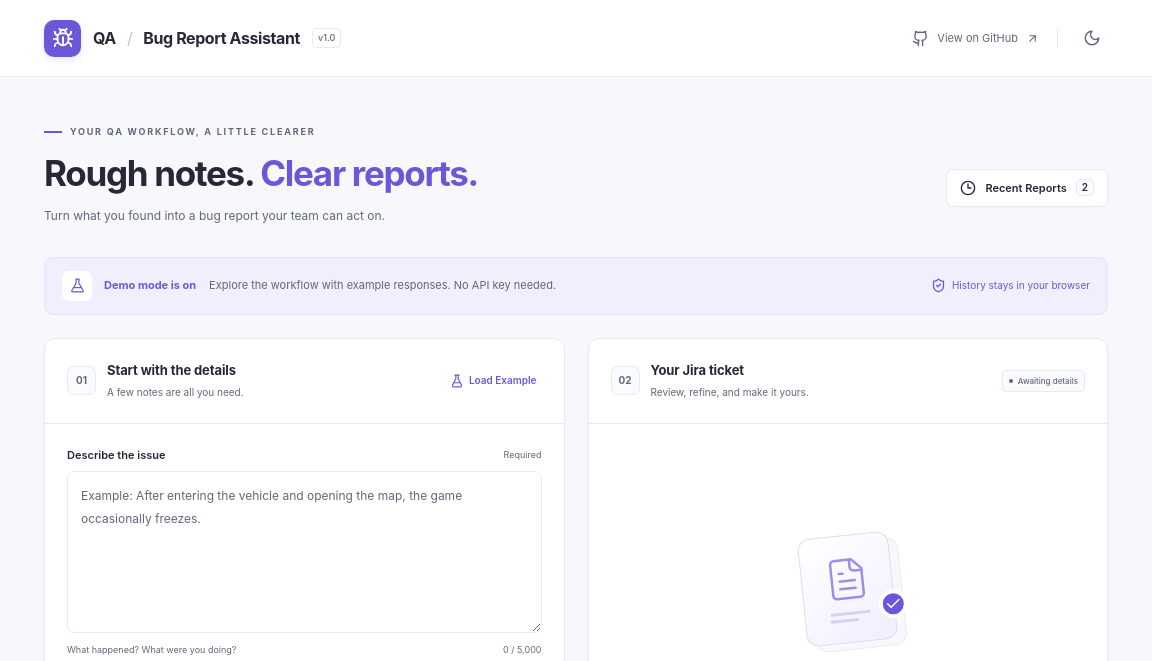
report workflow › restores, deletes and clears history with confirmation
Click the button "Recent Reports 2": [1027, 188] box [946, 169, 1108, 207]
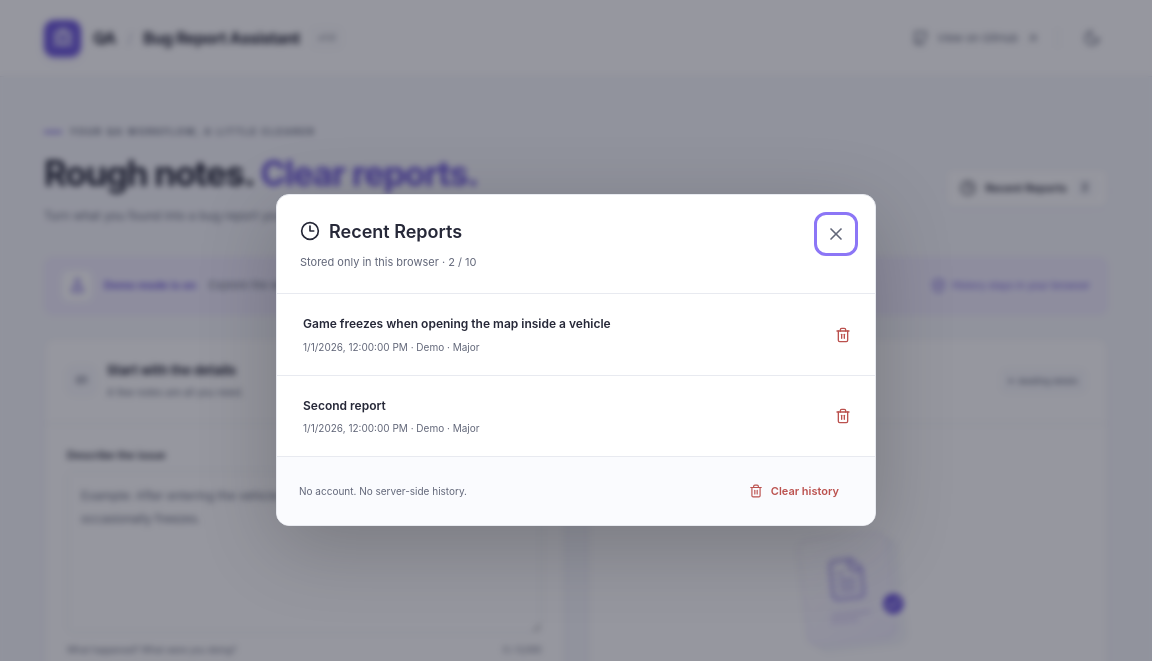
Click the button "Second report 1/1/2026, 12:00:00 PM · Demo · Major": [344, 405] box [293, 386, 817, 446]
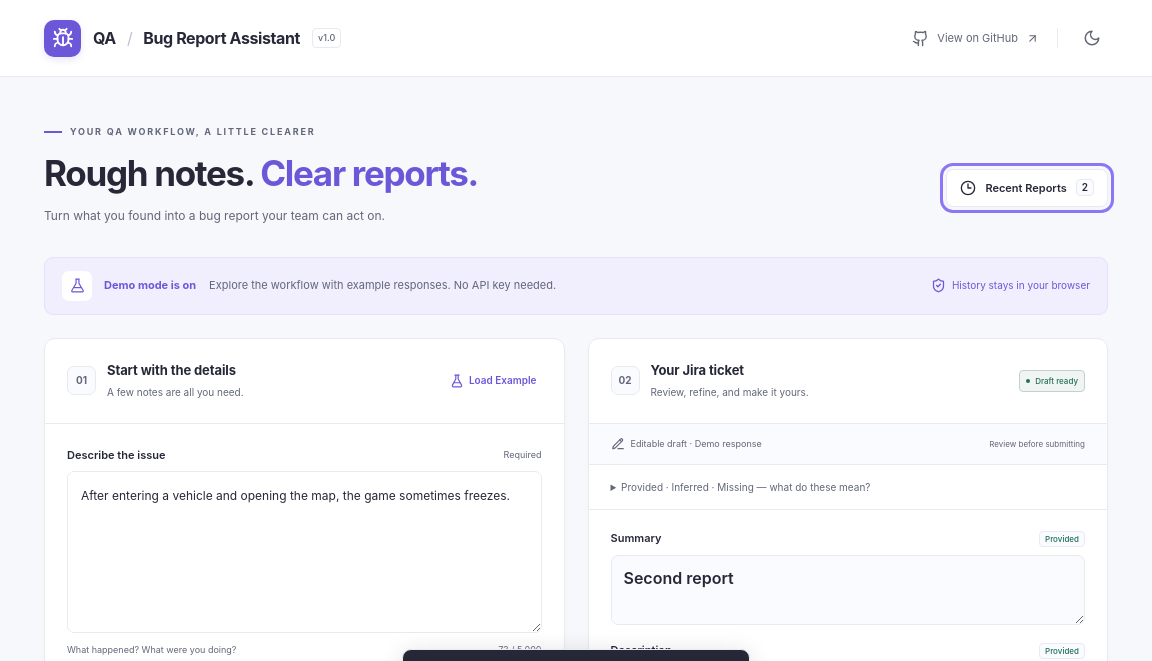
Expected: the text box showing "Second report" is shown, [610, 555, 1085, 625]
Click the button "Recent Reports 2": [1027, 188] box [946, 169, 1108, 207]
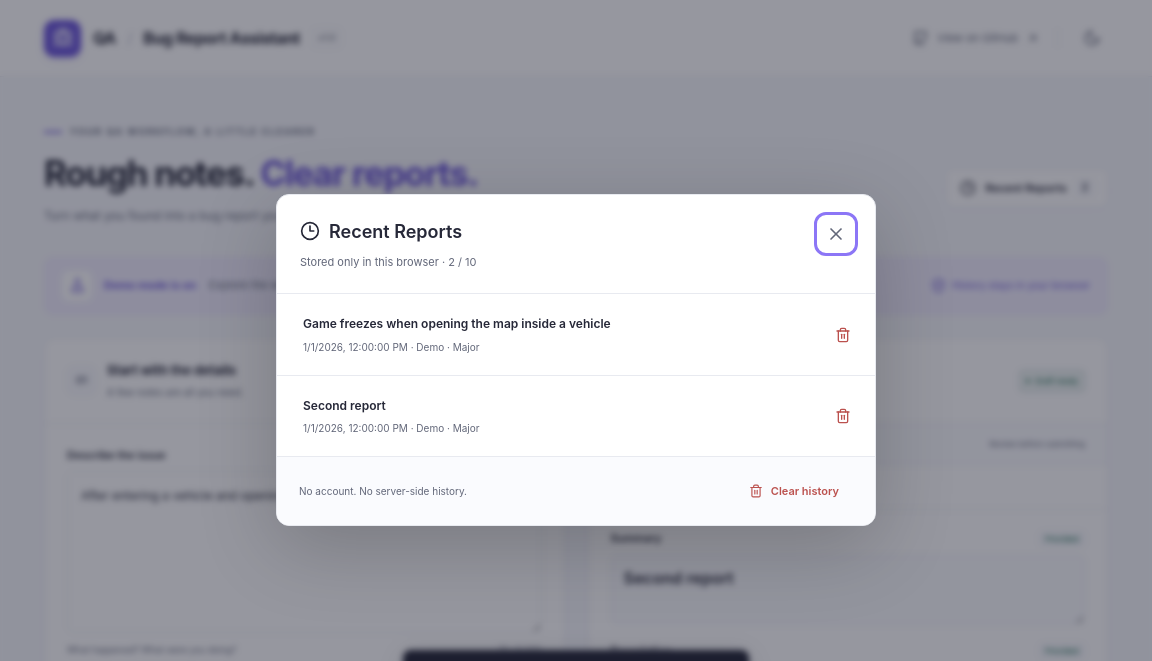
Click the button named "Delete report: Second report": [843, 416] box [827, 400, 859, 432]
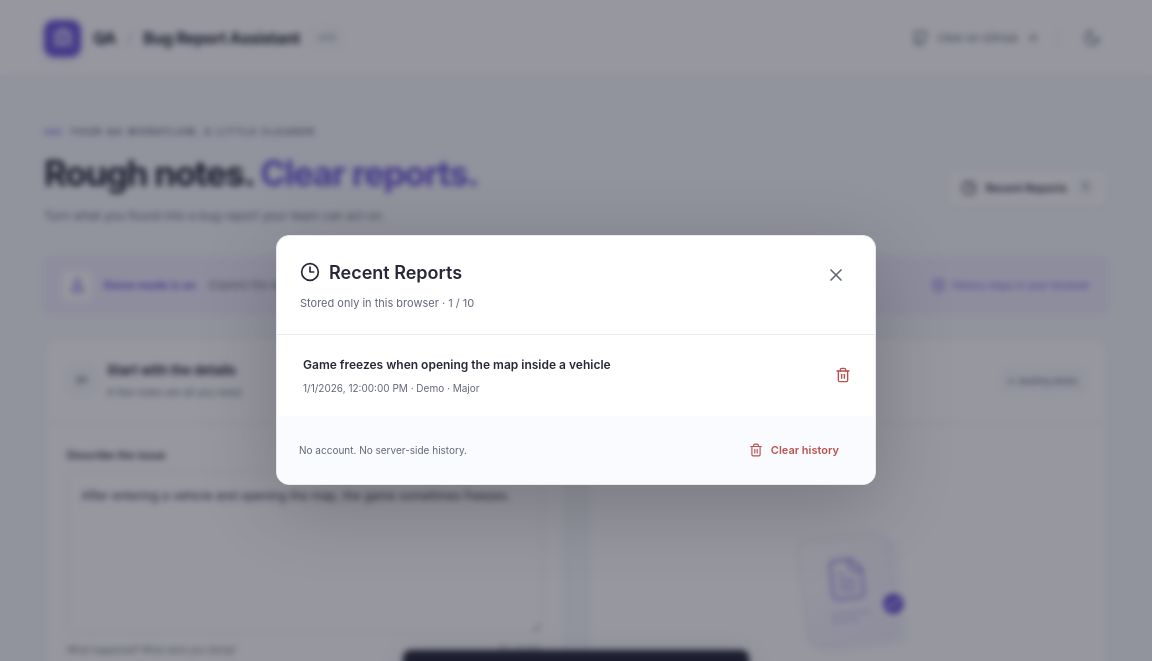
Click the button "Clear history": [794, 450] box [735, 431, 853, 469]
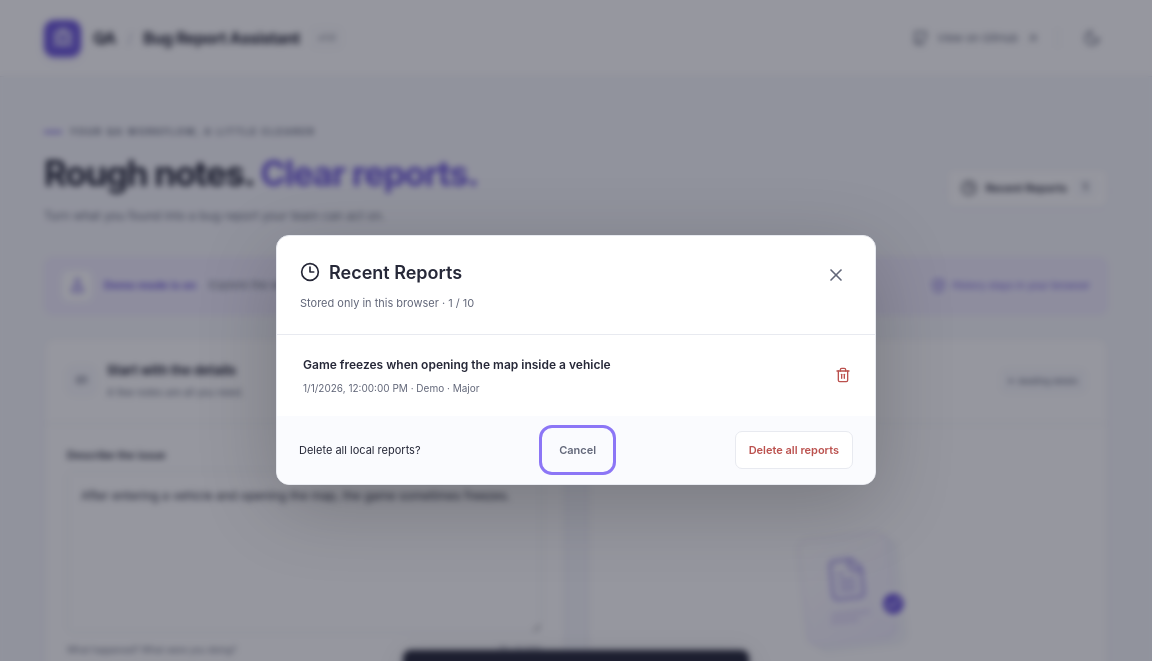
Click the button "Delete all reports": [794, 450] box [735, 431, 853, 469]
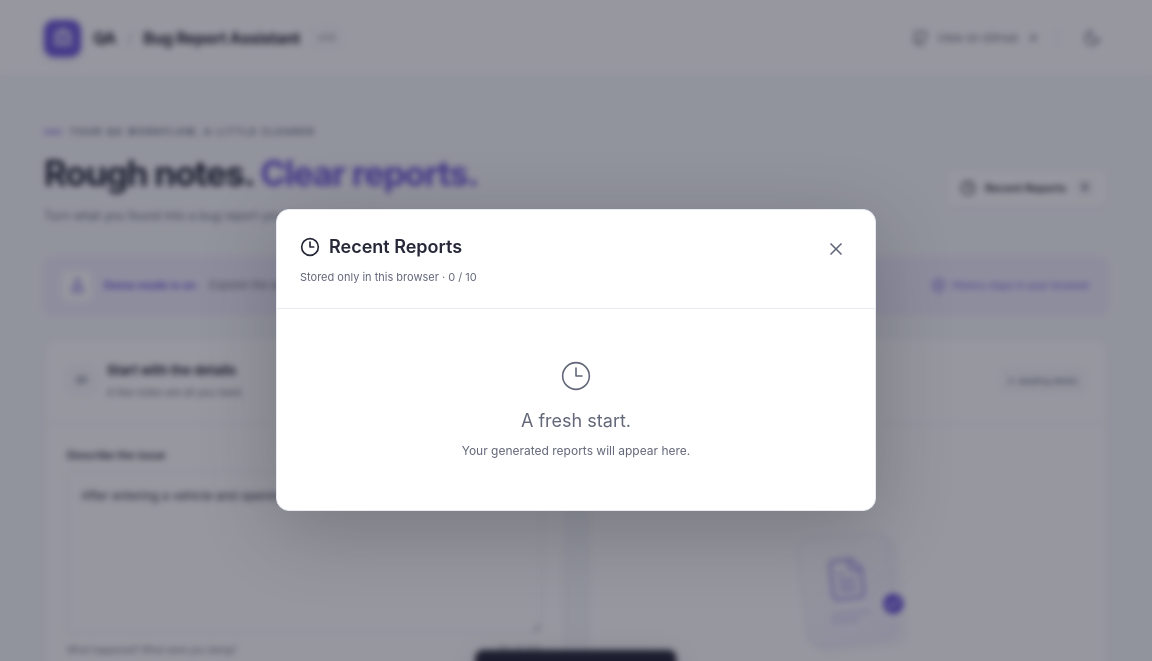
Expected: the heading "A fresh start." is shown, [521, 410, 631, 431]
